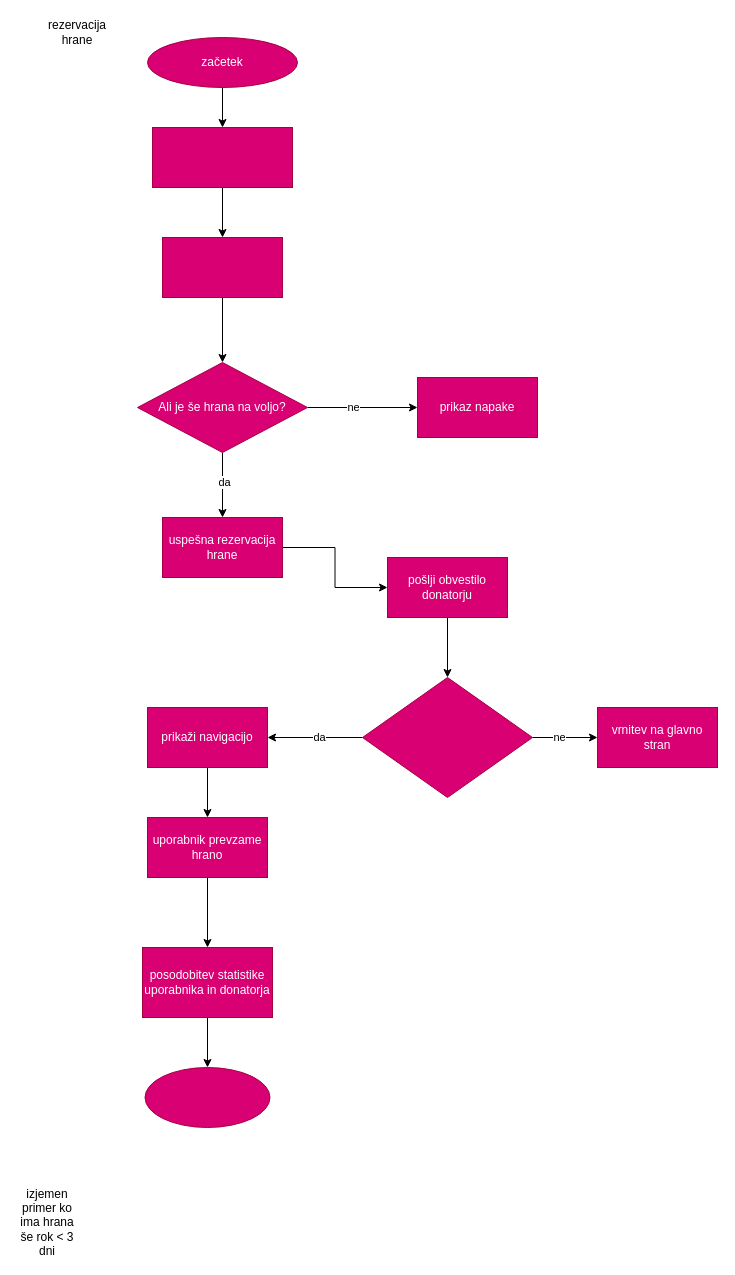
Some shapes in this 735 by 1275 pixel diagram are drawn without their labels. The shapes that lost their labels are listed below. From the top down, each one's box as (x1, y1, x2, y2) in pixels, then its label:
(152, 126, 292, 188): pregled objav hrane
(162, 236, 282, 298): rezervacija
(362, 676, 532, 798): Ali želi bit uporabnik voden?
(144, 1066, 270, 1128): konec
